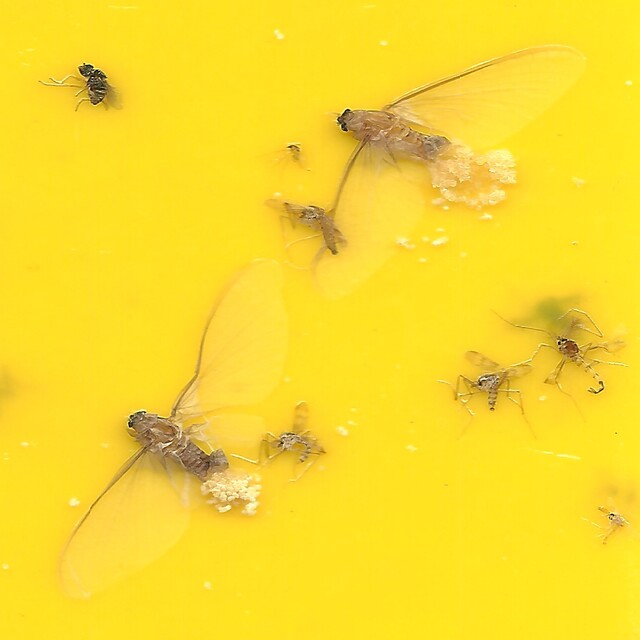Ephemeroptera: (54, 258, 294, 596), (308, 44, 586, 275)
